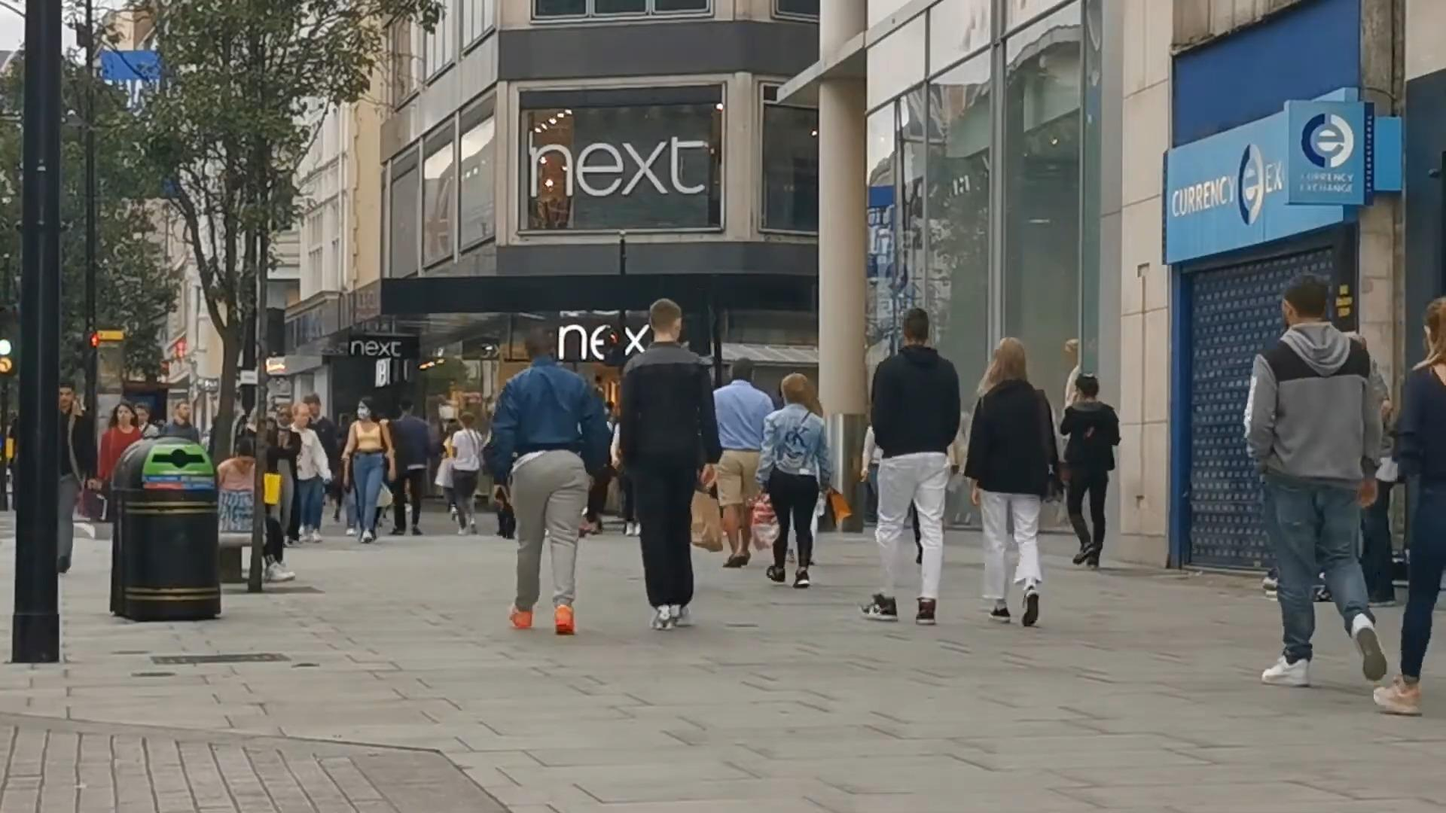no-helmet: (1282, 272, 1329, 328), (984, 337, 1028, 383), (1422, 295, 1446, 365), (649, 298, 682, 343), (524, 326, 557, 363), (781, 372, 811, 407), (903, 308, 929, 346), (235, 436, 256, 473), (109, 402, 139, 426), (1075, 372, 1099, 402), (729, 358, 756, 383), (356, 396, 377, 420), (60, 380, 75, 408), (174, 399, 191, 422)
